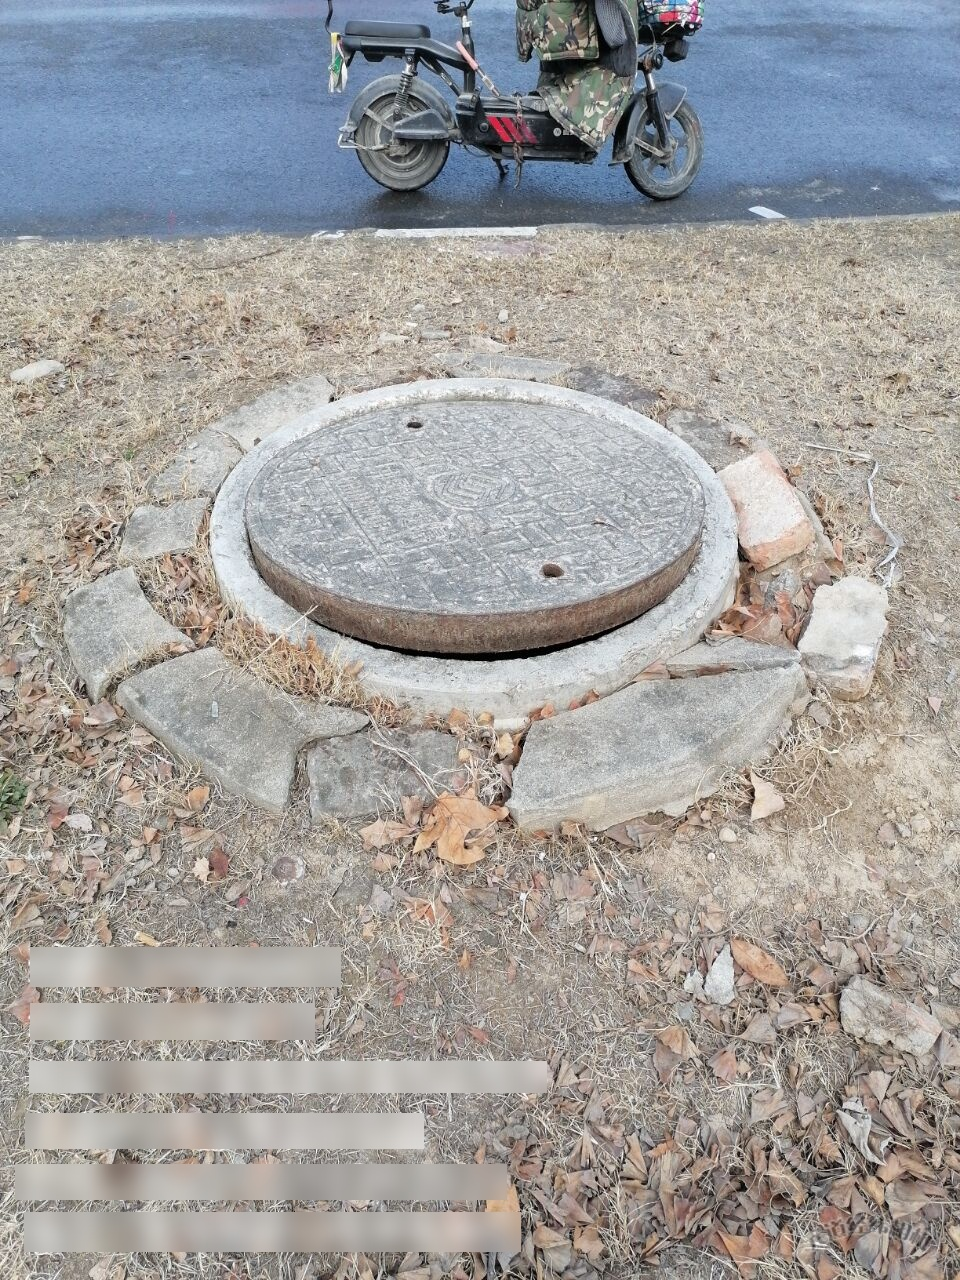uncovered: (208, 371, 736, 716)
